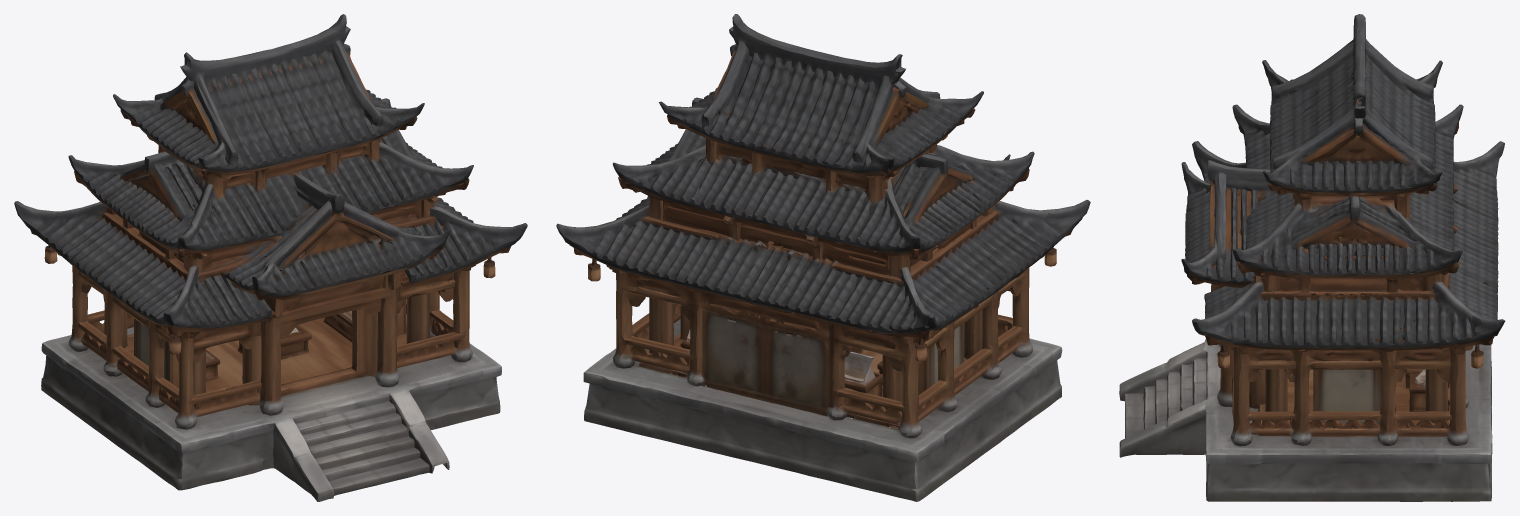
File: museum.optimized.glb
The picture shows the model from 3 angles, left to right: view 1: azimuth 30°, elevation 25°; view 2: azimuth 150°, elevation 25°; view 3: azimuth 270°, elevation 25°; orthographic projection. The views are drawn at different scales.
Parts seen in each view (by area): view 1: geometry_0; view 2: geometry_0; view 3: geometry_0.
Part boxes in pixels (x1=…): geometry_0: x1=14, y1=14, x2=527, y2=501; geometry_0: x1=556, y1=14, x2=1090, y2=501; geometry_0: x1=1119, y1=14, x2=1505, y2=501.
Bounding box in the file's own units: 12 × 11.56 × 10.85.
Materials: 1 (1 with a texture image).
